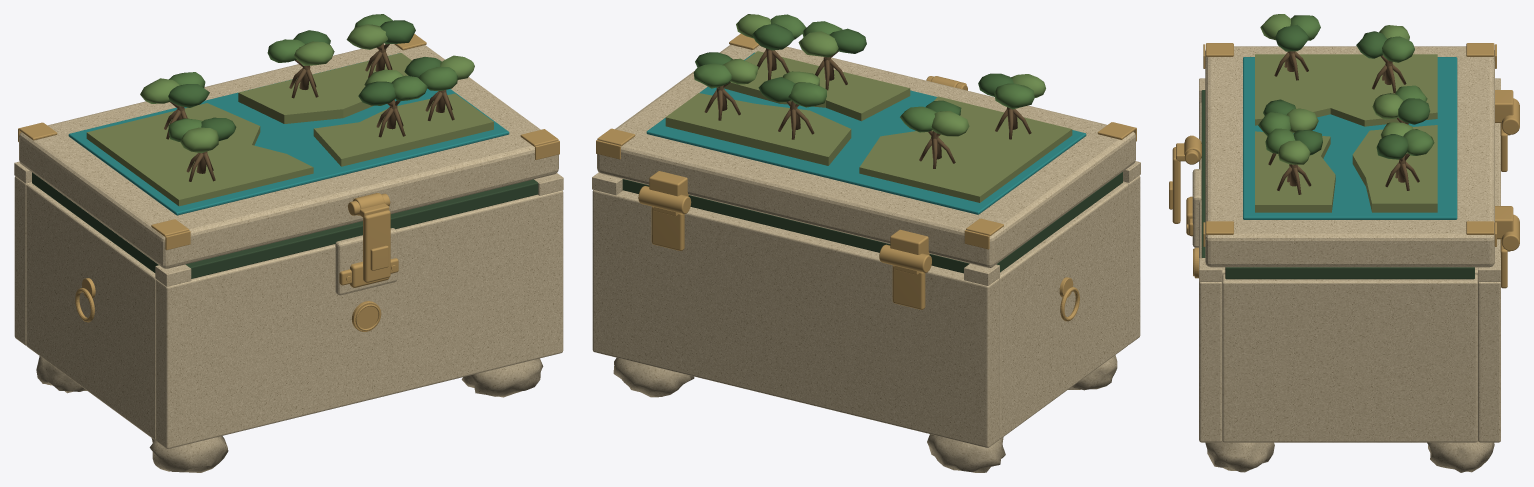
The model's file is senegal.glb.
3 views of the same model, side by side, from view 1: azimuth 30°, elevation 25°; view 2: azimuth 150°, elevation 25°; view 3: azimuth 270°, elevation 25° (orthographic).
Parts seen in each view (by area): view 1: Shell sand / wall, Lid / polished slab, Shell sand / end, Saloum / bank 0, Saloum / water, Saloum / bank 1, Mineral seam / long, Saloum / bank 2, Shell sand / wall.001, Granite foot, Granite foot.002, Cedar / clasp seat (+15 smaller); view 2: Shell sand / wall.001, Lid / polished slab, Shell sand / end, Saloum / bank 0, Saloum / water, Saloum / bank 2, Saloum / bank 1, Mineral seam / long.001, Shell sand / wall, Granite foot.001, Granite foot.003, Mineral seam / side (+18 smaller); view 3: Shell sand / end.001, Lid / polished slab, Saloum / water, Saloum / bank 0, Saloum / bank 2, Saloum / bank 1, Shell sand / wall.001, Shell sand / wall, Mineral seam / side.001, Granite foot.002, Granite foot.003, Mineral seam / long (+26 smaller).
Part boxes in pixels (box(x1,y1,x2,y2)): Shell sand / wall: box(156, 190, 563, 448); Lid / polished slab: box(19, 43, 558, 268); Shell sand / end: box(26, 183, 156, 440); Saloum / bank 0: box(86, 103, 313, 206); Saloum / water: box(68, 53, 509, 215); Saloum / bank 1: box(313, 93, 493, 166); Mineral seam / long: box(185, 179, 538, 278); Saloum / bank 2: box(238, 53, 411, 123); Shell sand / wall.001: box(14, 176, 31, 345); Granite foot: box(149, 436, 228, 472); Granite foot.002: box(461, 358, 543, 397); Cedar / clasp seat: box(335, 228, 397, 295); Shell sand / wall.001: box(592, 190, 999, 447); Lid / polished slab: box(597, 44, 1135, 267); Shell sand / end: box(999, 182, 1128, 439); Saloum / bank 0: box(859, 96, 1072, 202); Saloum / water: box(646, 52, 1086, 214); Saloum / bank 2: box(665, 93, 851, 165); Saloum / bank 1: box(724, 51, 910, 121); Mineral seam / long.001: box(622, 179, 969, 273); Shell sand / wall: box(1123, 175, 1140, 344); Granite foot.001: box(927, 434, 1005, 472); Granite foot.003: box(613, 358, 694, 397); Mineral seam / side: box(996, 172, 1122, 272); Shell sand / end.001: box(1222, 274, 1477, 442); Lid / polished slab: box(1205, 46, 1494, 267); Saloum / water: box(1243, 57, 1457, 219); Saloum / bank 0: box(1255, 54, 1437, 126); Saloum / bank 2: box(1352, 125, 1437, 212); Saloum / bank 1: box(1255, 131, 1335, 212); Shell sand / wall.001: box(1478, 123, 1500, 442); Shell sand / wall: box(1199, 102, 1222, 442); Mineral seam / side.001: box(1225, 267, 1474, 279); Granite foot.002: box(1205, 441, 1274, 472); Granite foot.003: box(1427, 441, 1494, 472); Mineral seam / long: box(1201, 90, 1205, 257).
Size of the model in its own units: 3.79 by 2.88 by 2.88.
10 materials, 2 textured.
